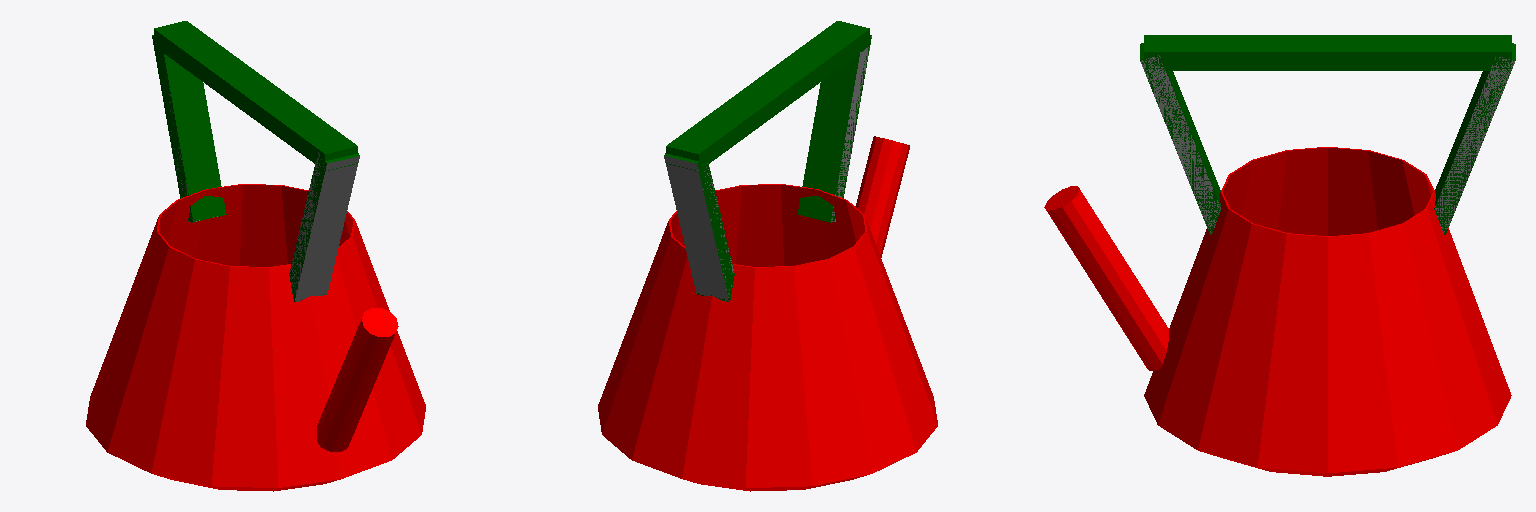
URDF robot description (kettle-body):
<?xml version="1.0"?>
<robot name="kettle-body"
       xmlns:xi="http://www.w3.org/2001/XInclude">
  <gazebo>
    <static>false</static>
  </gazebo>
  <link name="KETTLE-BODYSET2_link">
    <visual>
      <origin xyz="0 0 0" rpy="0 -0 0"/>
      <geometry>
        <mesh filename="model://kettle-body/meshes/KETTLE-BODYSET2_link_mesh.dae" scale="1 1 1" />
      </geometry>
    </visual>
    <collision>
      <origin xyz="0 0 0" rpy="0 -0 0"/>
      <geometry>
        <mesh filename="model://kettle-body/meshes/KETTLE-BODYSET2_link_mesh.dae" scale="1 1 1" />
      </geometry>
    </collision>
    <inertial>
      <mass value="0.001" />
      <origin xyz="0 0 0" rpy="0 -0 0"/>
      <inertia ixx="1e-03" ixy="0" ixz="0" iyy="1e-03" iyz="0" izz="1e-03"/>
    </inertial>
  </link>
  <gazebo reference="KETTLE-BODYSET2_link">
    <mu1>0.9</mu1>
    <mu2>0.9</mu2>
  </gazebo>
  <link name="KETTLE-BODYSET3_link">
    <visual>
      <origin xyz="0 0 0.101305" rpy="0 -0 0"/>
      <geometry>
        <mesh filename="model://kettle-body/meshes/KETTLE-BODYSET3_link_mesh.dae" scale="1 1 1" />
      </geometry>
    </visual>
    <collision>
      <origin xyz="0 0 0.101305" rpy="0 -0 0"/>
      <geometry>
        <mesh filename="model://kettle-body/meshes/KETTLE-BODYSET3_link_mesh.dae" scale="1 1 1" />
      </geometry>
    </collision>
    <inertial>
      <mass value="0.001" />
      <origin xyz="0 0 0" rpy="0 -0 0"/>
      <inertia ixx="1e-03" ixy="0" ixz="0" iyy="1e-03" iyz="0" izz="1e-03"/>
    </inertial>
  </link>
  <gazebo reference="KETTLE-BODYSET3_link">
    <mu1>0.9</mu1>
    <mu2>0.9</mu2>
  </gazebo>
  <joint name="HANDLE-JOINT" type="revolute">
    <parent link="KETTLE-BODYSET2_link"/>
    <child  link="KETTLE-BODYSET3_link"/>
    <origin xyz="0 0 0.101305" rpy="0 -0 0 "/>
    <axis   xyz="0 1 0"/>
    <limit lower="-0.174533" upper="1.8326" effort="100" velocity="0.5" />
    <dynamics damping="0.2" friction="0" />
  </joint>
  <transmission type="pr2_mechanism_model/SimpleTransmission" name="HANDLE-JOINT_trans" >
    <actuator name="HANDLE-JOINT_motor" />
    <joint name="HANDLE-JOINT" />
    <mechanicalReduction>1</mechanicalReduction>
  </transmission>
  <gazebo reference="HANDLE-JOINT">
    <cfmDamping>0.4</cfmDamping>
  </gazebo>
</robot>

--- Render facts (derived) ---
Views: 3 orthographic renders of the robot side by side, from view 1: azimuth 30°, elevation 25°; view 2: azimuth 150°, elevation 25°; view 3: azimuth 270°, elevation 25°.
Robot: kettle-body — 2 links, 1 joints (1 revolute); root link KETTLE-BODYSET2_link; default pose: every joint at zero.
Visible links, largest first — view 1: KETTLE-BODYSET2_link, KETTLE-BODYSET3_link; view 2: KETTLE-BODYSET2_link, KETTLE-BODYSET3_link; view 3: KETTLE-BODYSET2_link, KETTLE-BODYSET3_link.
Link boxes in pixels (box(x1,y1,x2,y2)): KETTLE-BODYSET2_link: box(86, 21, 425, 491); KETTLE-BODYSET3_link: box(166, 77, 359, 301); KETTLE-BODYSET2_link: box(598, 21, 937, 491); KETTLE-BODYSET3_link: box(664, 36, 871, 301); KETTLE-BODYSET2_link: box(1044, 35, 1515, 476); KETTLE-BODYSET3_link: box(1140, 55, 1514, 233).
Bounding box of the posed robot: 0.18 × 0.2305 × 0.2 m (x, y, z).
2 mesh visuals loaded from 2 distinct referenced files (2 Collada DAE).